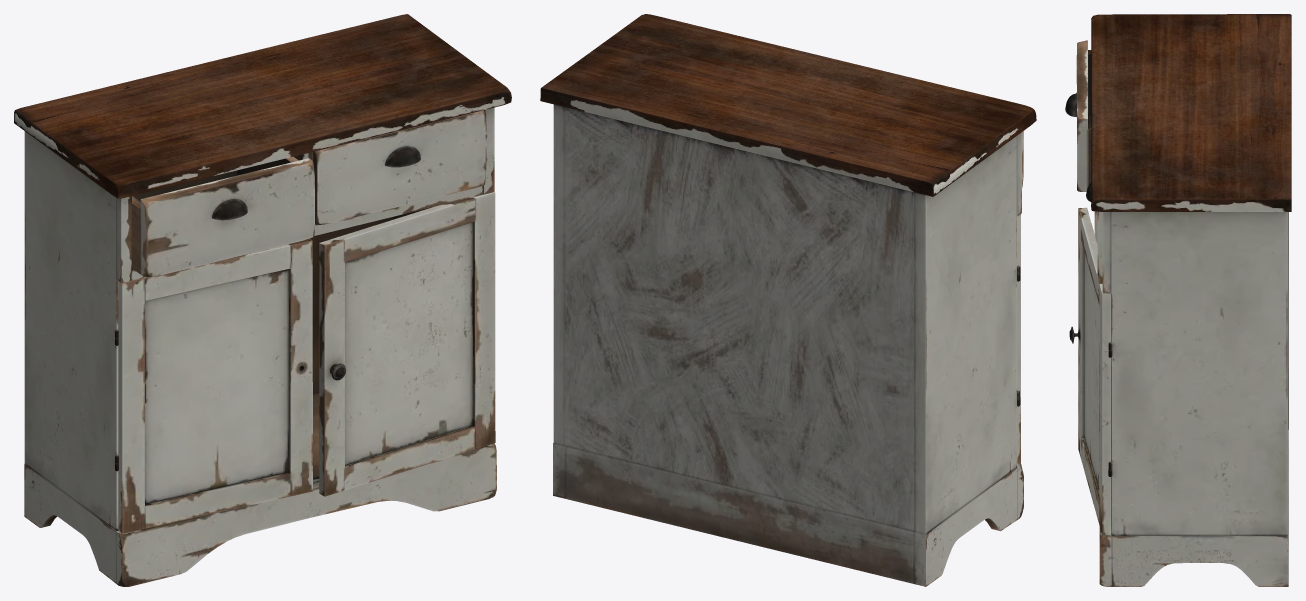
The model's file is painted_wooden_cabinet.glb.
3 views of the same model, side by side, from view 1: azimuth 30°, elevation 25°; view 2: azimuth 150°, elevation 25°; view 3: azimuth 270°, elevation 25° (orthographic). The views are drawn at different scales.
Parts seen in each view (by area): view 1: painted_wooden_cabinet; view 2: painted_wooden_cabinet; view 3: painted_wooden_cabinet.
Part boxes in pixels (x1,y1,x2,y2): painted_wooden_cabinet: [14, 14, 511, 586]; painted_wooden_cabinet: [540, 14, 1036, 586]; painted_wooden_cabinet: [1065, 14, 1291, 586].
Size of the model in its own units: 1.19 by 1.18 by 0.6167.
1 material, 1 textured.
